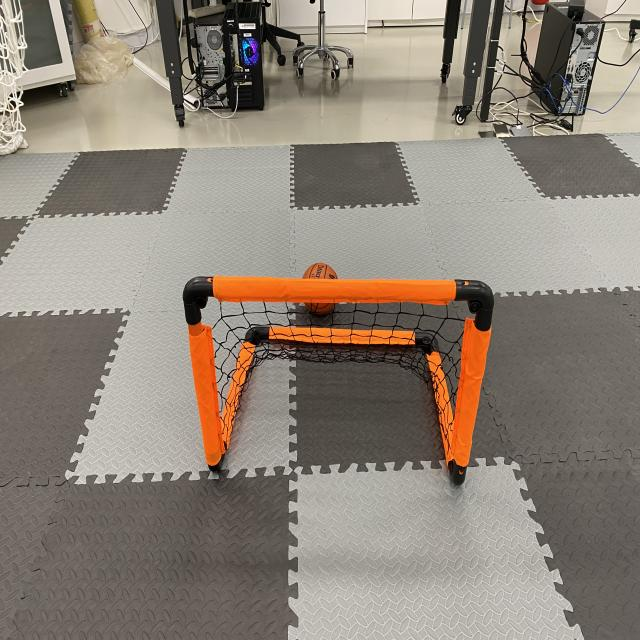ball: (297, 258, 343, 320)
gate: (179, 270, 498, 495)
